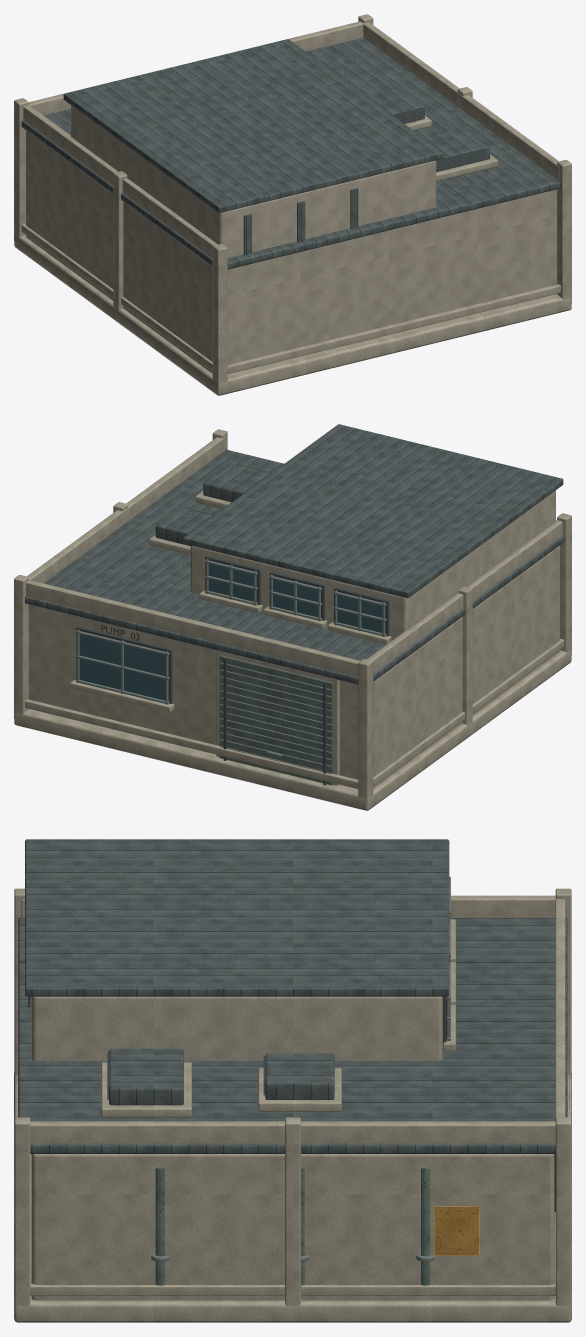
File: pump-station.glb
3 renders of one model, top to bottom at view 1: azimuth 30°, elevation 25°; view 2: azimuth 150°, elevation 25°; view 3: azimuth 270°, elevation 25°, orthographic. The views are drawn at different scales.
Visible parts, largest first — view 1: PumpStation_Geometry; view 2: PumpStation_Geometry; view 3: PumpStation_Geometry.
Part boxes in pixels (bbox=[...]): PumpStation_Geometry: bbox=[14, 14, 571, 395]; PumpStation_Geometry: bbox=[14, 424, 571, 810]; PumpStation_Geometry: bbox=[14, 839, 571, 1322].
Bounding box in the file's own units: 8 × 4 × 8.
Materials: 7 (4 with a texture image).
